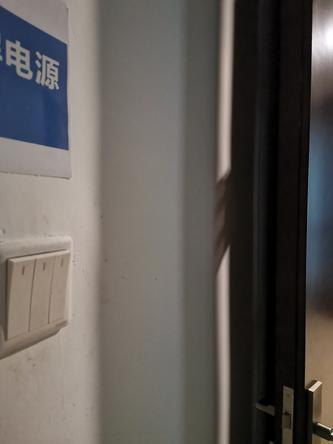switch: (4, 252, 36, 341), (28, 248, 57, 330), (48, 247, 71, 326)
